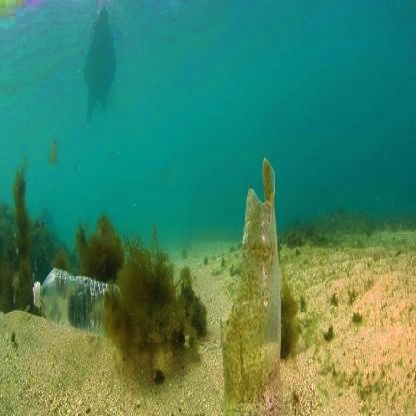pbottle: (211, 146, 292, 412), (26, 260, 130, 348)
